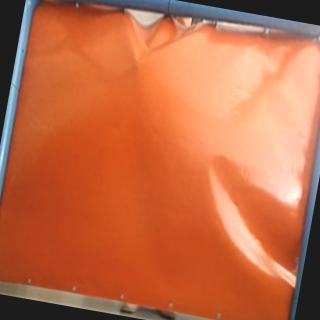Hit-hRxx: (128, 53, 146, 71)
